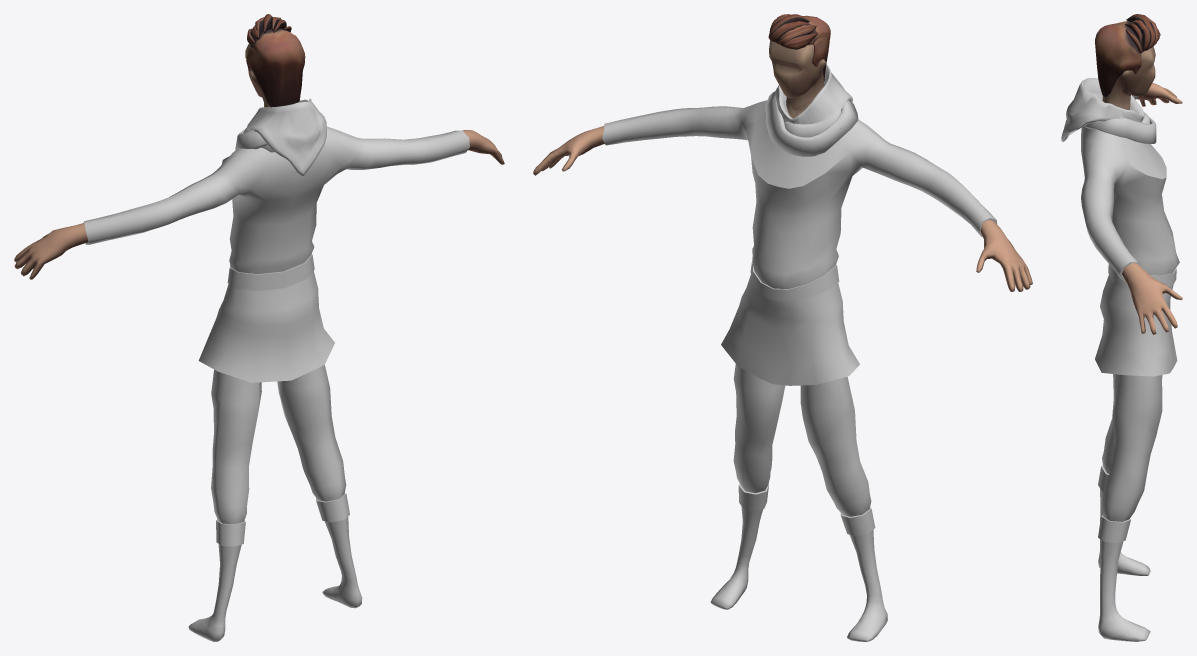
The model's file is MainChar.fbx.
The picture shows the model from 3 angles, left to right: view 1: azimuth 30°, elevation 25°; view 2: azimuth 150°, elevation 25°; view 3: azimuth 270°, elevation 25°; orthographic projection. The views are drawn at different scales.
Parts seen in each view (by area): view 1: body; view 2: body; view 3: body.
Part boxes in pixels (<box>): body: <box>14,14,504,641</box>; body: <box>533,14,1032,641</box>; body: <box>1061,14,1182,641</box>.
Bounding box in the file's own units: 180 × 214 × 39.85.
